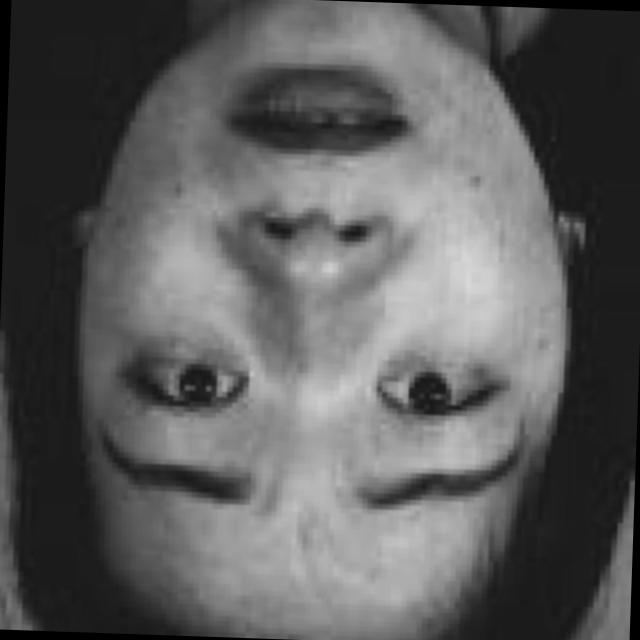fear: (68, 4, 566, 597)
